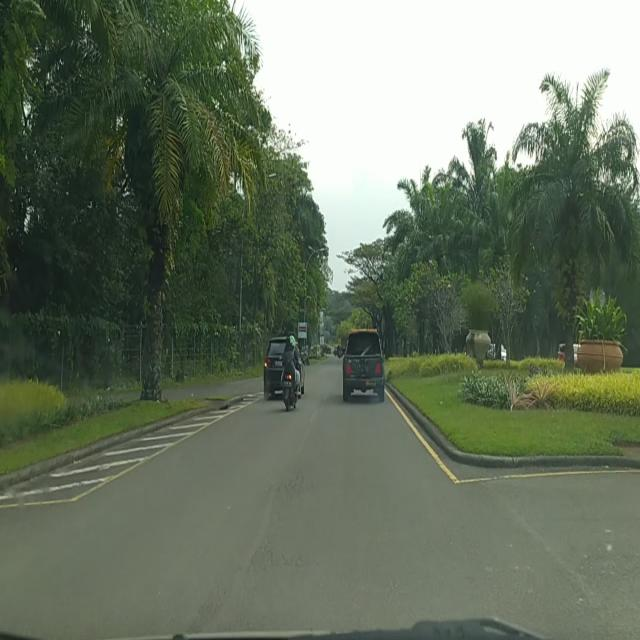Drain Hole: (242, 522, 304, 578), (261, 479, 311, 516)
